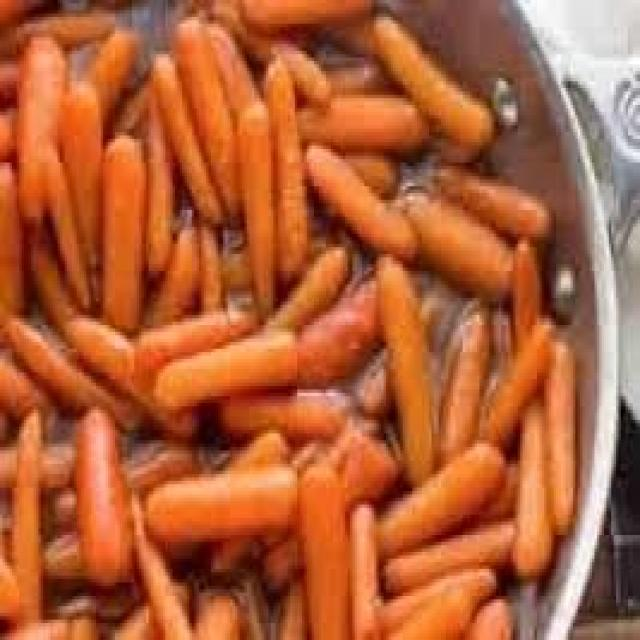Stale_Carrot: (50, 0, 523, 618)
